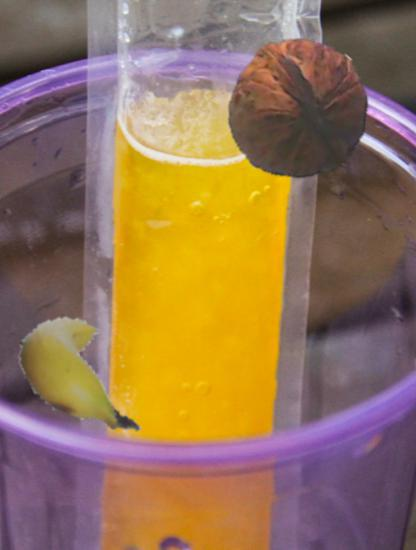Banana: (14, 299, 159, 444)
Walnut: (225, 36, 371, 182)
